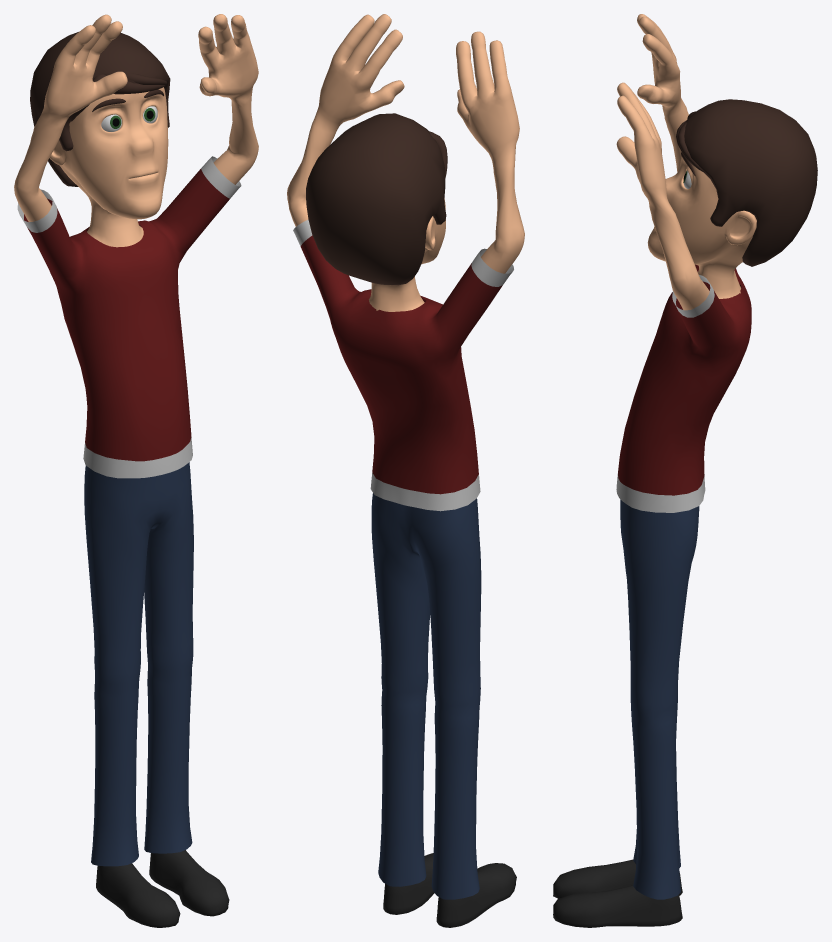
Rendered from Porl.obj.
3 renders of one model, left to right at view 1: azimuth 30°, elevation 25°; view 2: azimuth 150°, elevation 25°; view 3: azimuth 270°, elevation 25°, orthographic.
Parts seen in each view (by area): view 1: Pants_Plane.021, Character_Mesh_Plane.001, T-Shirt_Plane.023, Hair1_Cube.003, Hair2_Circle.011, Eyes_Cube.002; view 2: Pants_Plane.021, T-Shirt_Plane.023, Character_Mesh_Plane.001, Hair1_Cube.003; view 3: Character_Mesh_Plane.001, Pants_Plane.021, T-Shirt_Plane.023, Hair1_Cube.003.
Part boxes in pixels (x1,y1,x2,y2): Pants_Plane.021: (84, 462, 193, 866); Character_Mesh_Plane.001: (14, 14, 258, 927); T-Shirt_Plane.023: (17, 156, 241, 478); Hair1_Cube.003: (30, 32, 170, 186); Hair2_Circle.011: (70, 73, 167, 121); Eyes_Cube.002: (101, 106, 157, 131); Pants_Plane.021: (371, 493, 481, 899); T-Shirt_Plane.023: (293, 219, 513, 511); Character_Mesh_Plane.001: (287, 14, 524, 927); Hair1_Cube.003: (306, 113, 446, 285); Character_Mesh_Plane.001: (553, 14, 756, 927); Pants_Plane.021: (620, 499, 699, 899); T-Shirt_Plane.023: (616, 264, 751, 512); Hair1_Cube.003: (684, 99, 817, 266).
Bounding box in the file's own units: 2.11 × 7.52 × 2.07.
